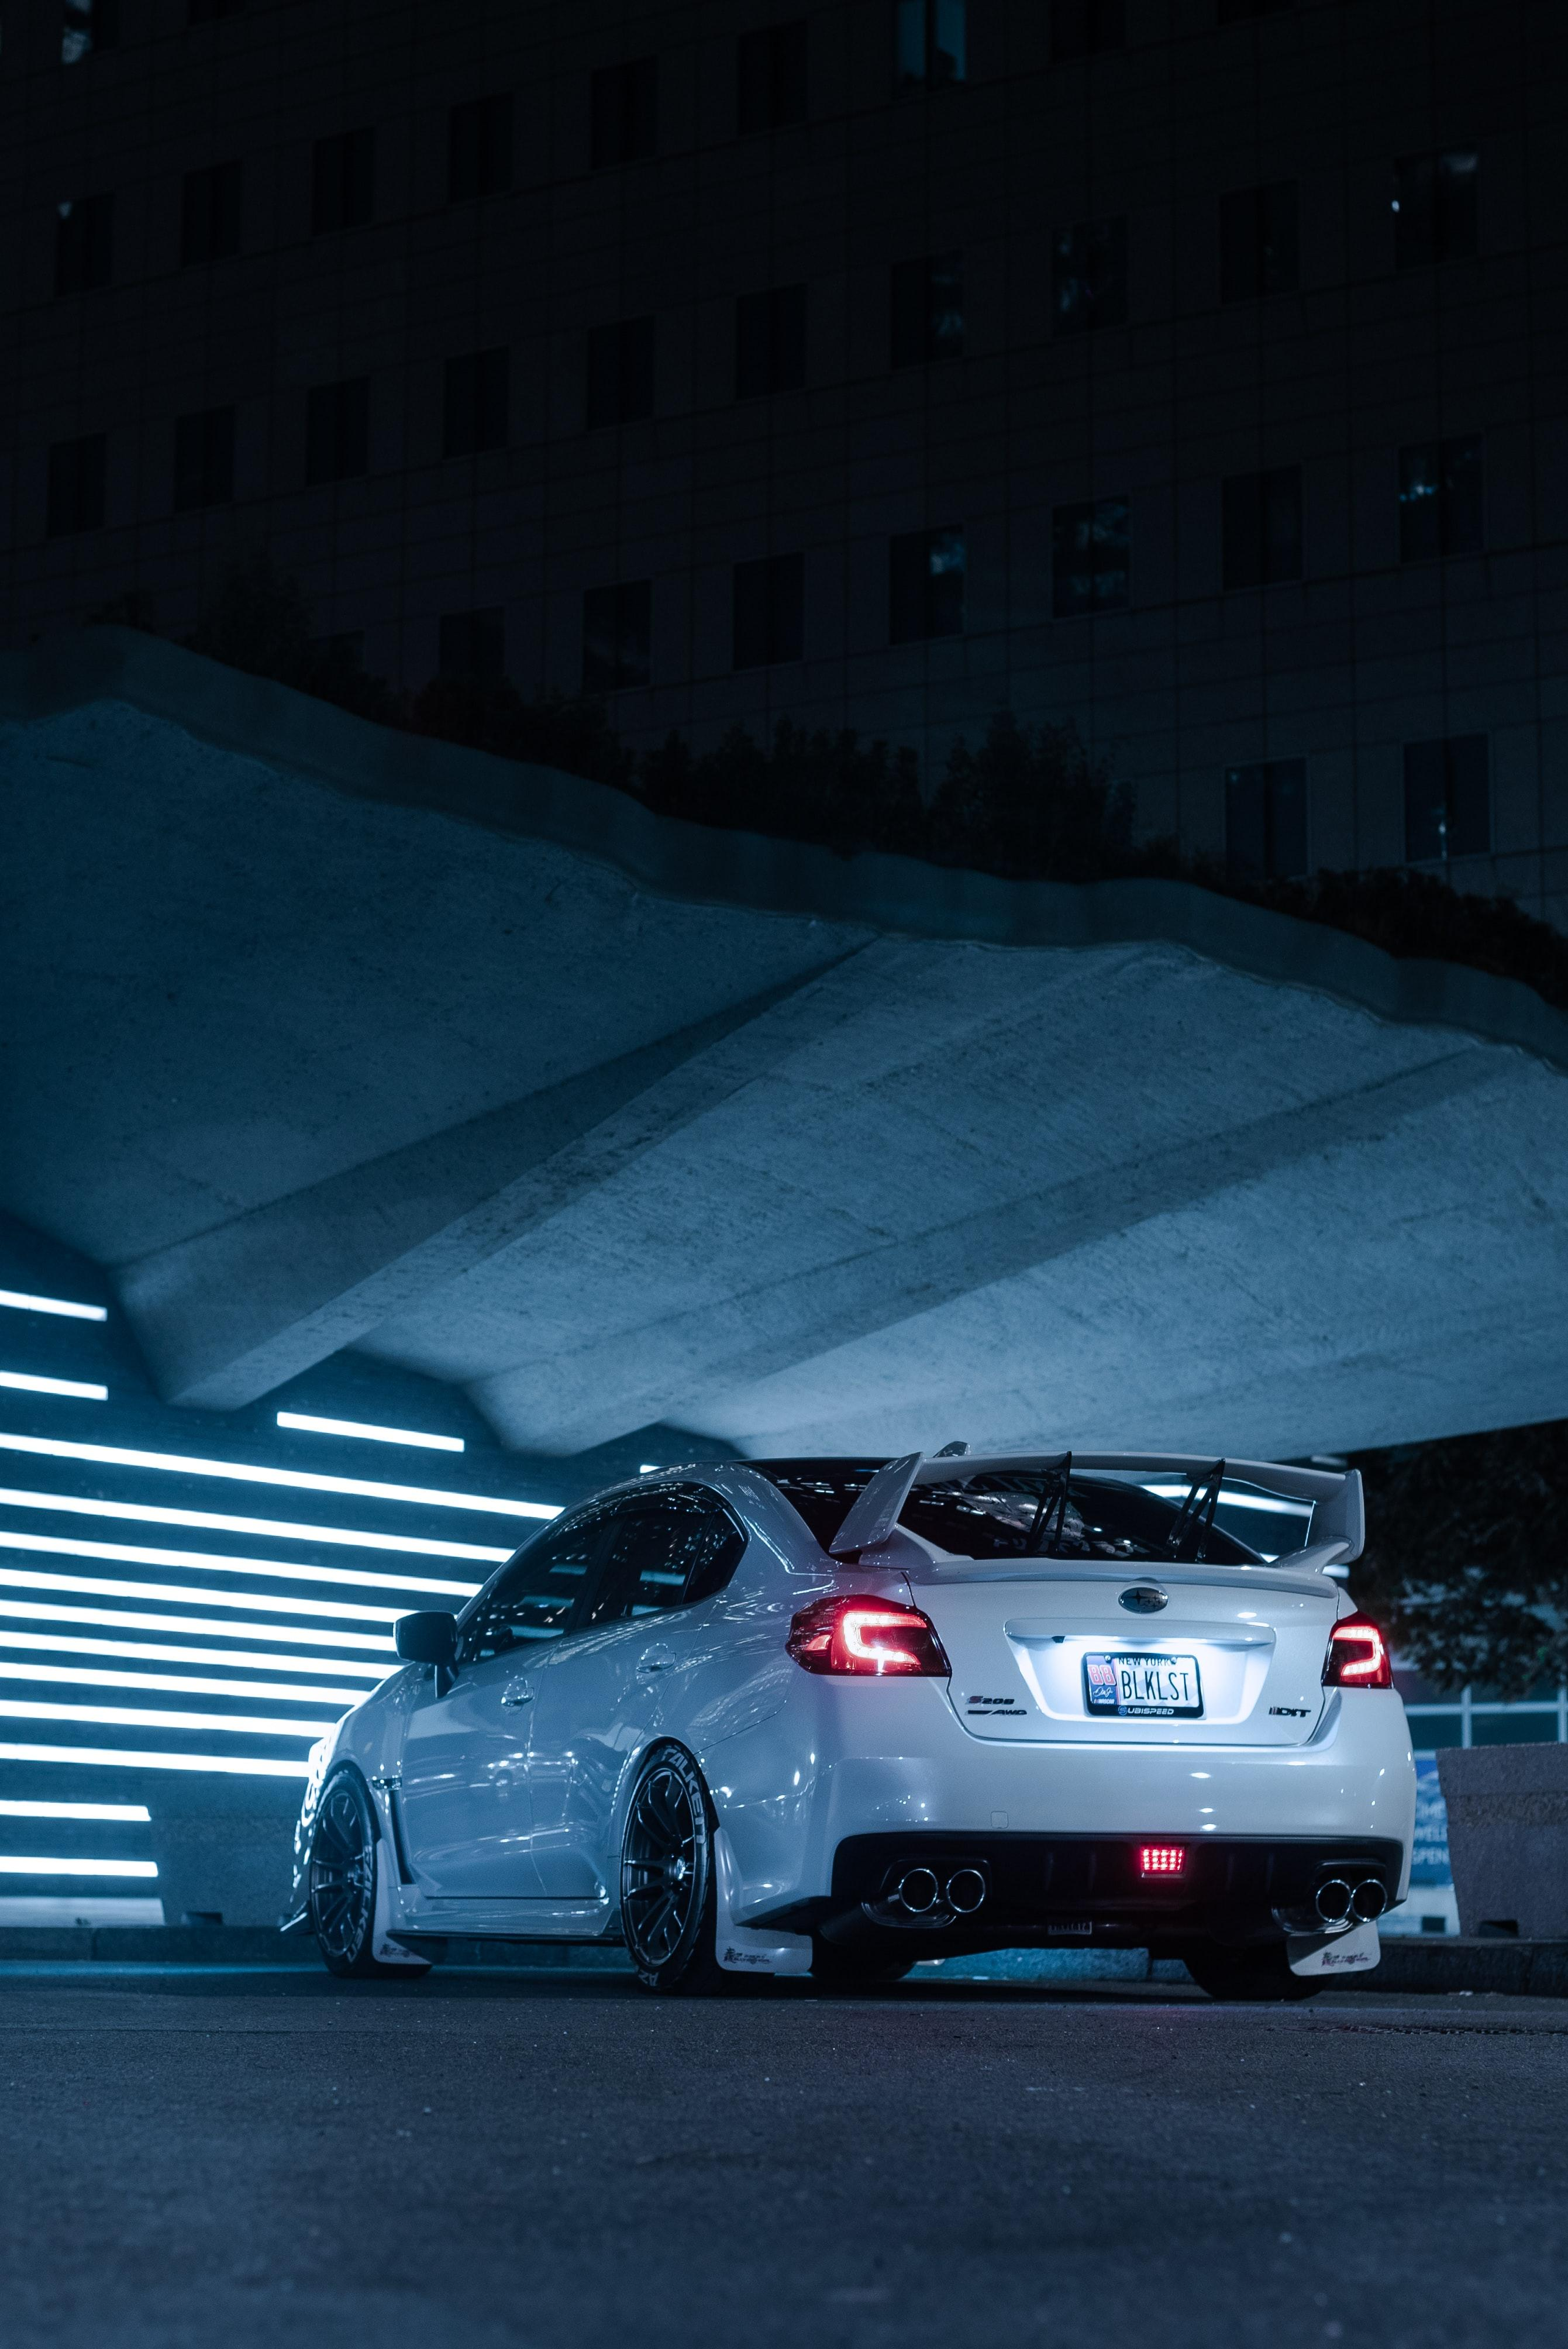subaru: (1094, 1560, 1190, 1644)
